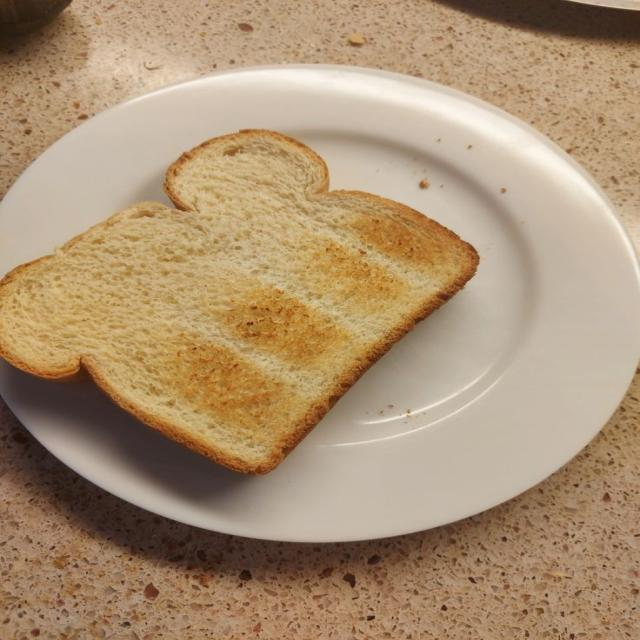toast bread: (0, 129, 477, 474)
